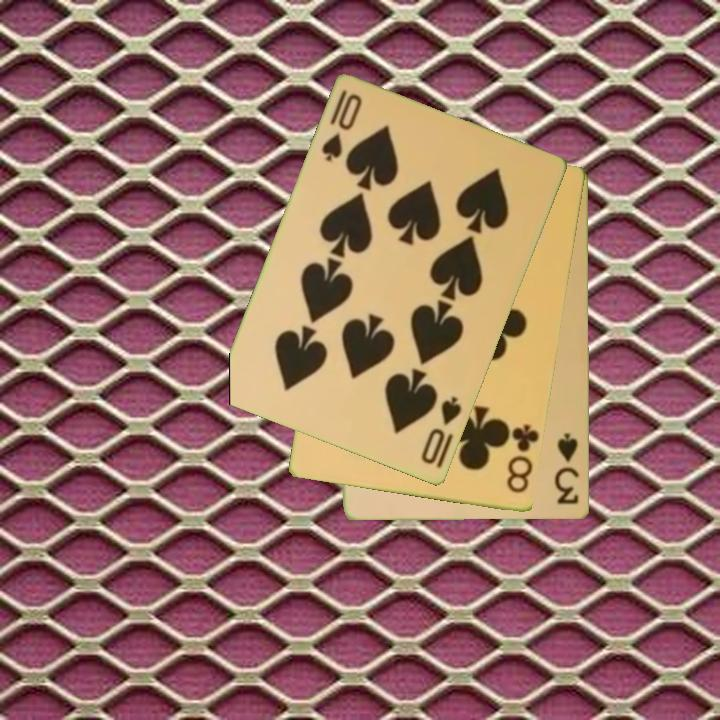10s: (318, 86, 366, 165), (418, 393, 465, 468)
3s: (552, 430, 582, 507)
8c: (503, 421, 541, 497)
